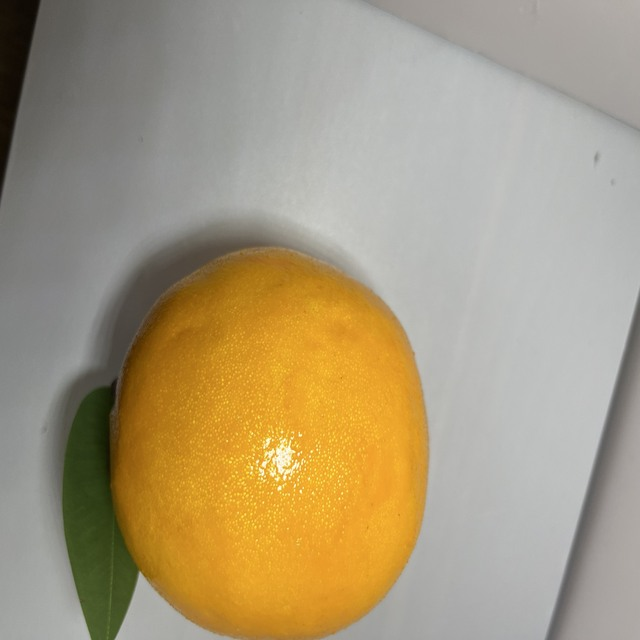Cam vang: (75, 239, 437, 640)
